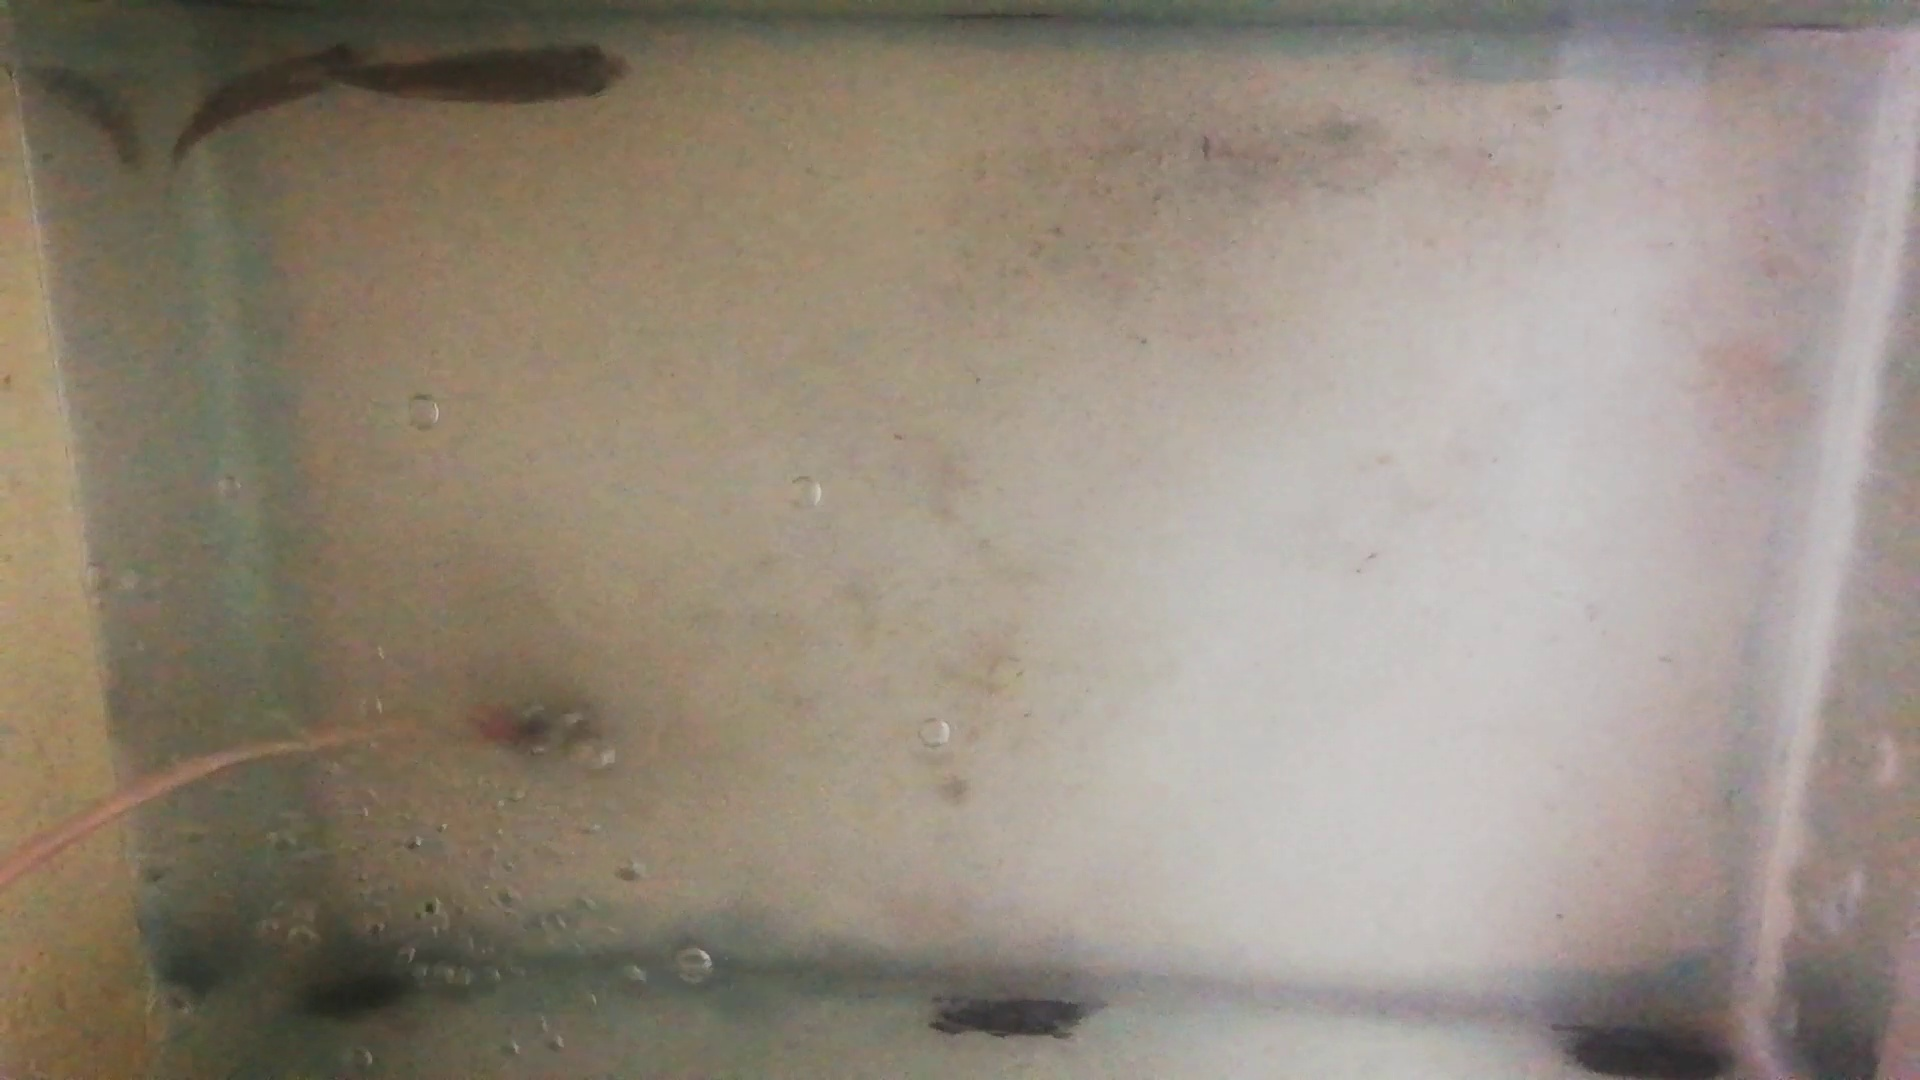fish: (173, 42, 378, 164), (330, 40, 636, 105)
